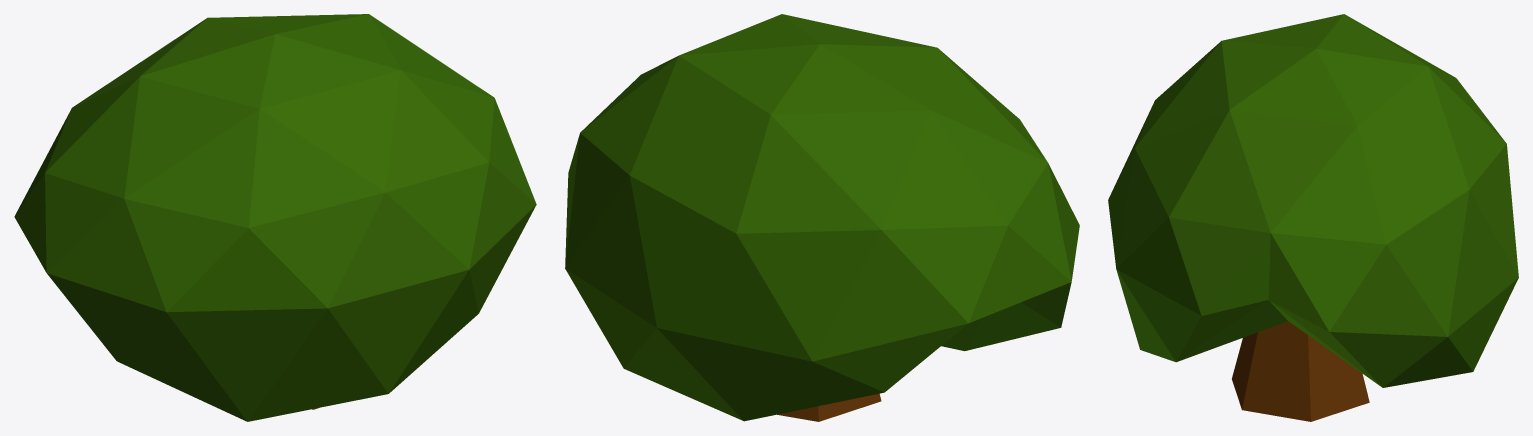
File: Proto_Vegetation_Bush_01.fbx
3 renders of one model, left to right at view 1: azimuth 30°, elevation 25°; view 2: azimuth 150°, elevation 25°; view 3: azimuth 270°, elevation 25°, orthographic. The views are drawn at different scales.
Visible parts, largest first — view 1: Proto_Vegetation_Bush_01; view 2: Proto_Vegetation_Bush_01; view 3: Proto_Vegetation_Bush_01.
Part boxes in pixels (box(x1,y1,x2,y2)): Proto_Vegetation_Bush_01: box(14, 14, 536, 421); Proto_Vegetation_Bush_01: box(565, 14, 1079, 421); Proto_Vegetation_Bush_01: box(1108, 14, 1518, 421).
Size of the model in its own units: 0.9003 by 0.6252 by 0.6994.
